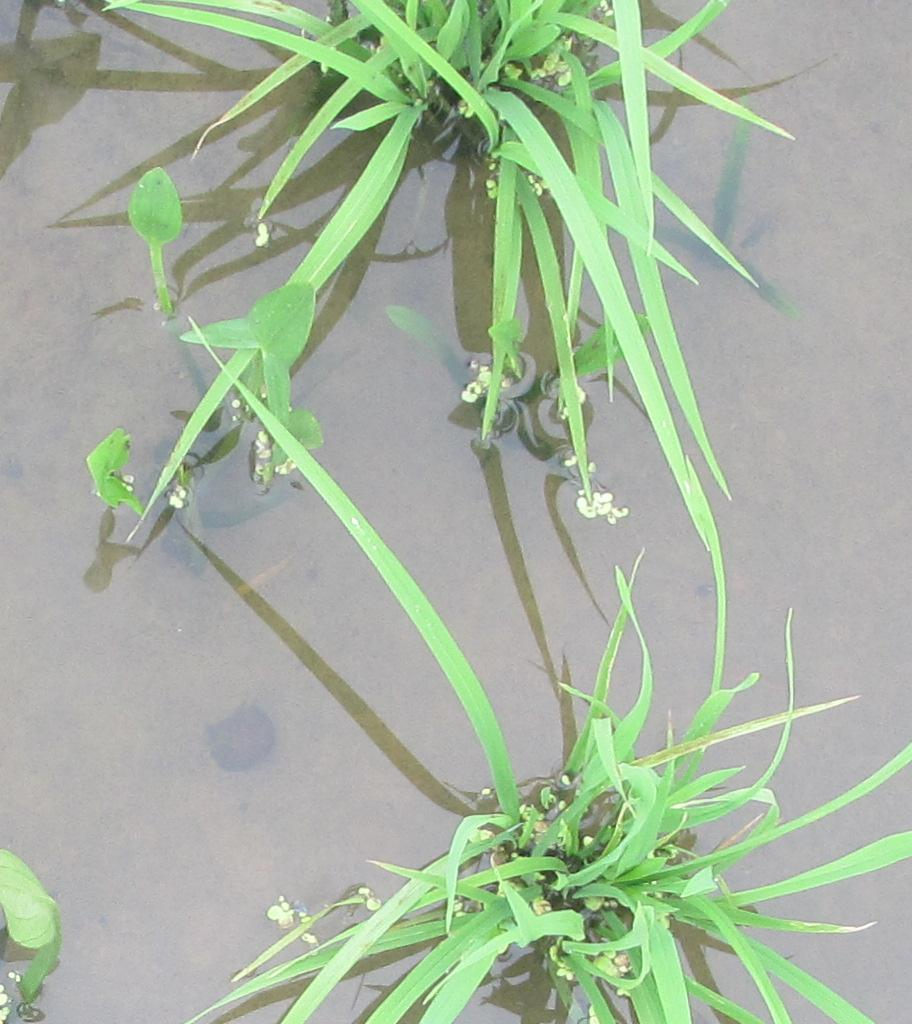Weed: (186, 280, 327, 394), (119, 158, 186, 267), (5, 842, 60, 958)
